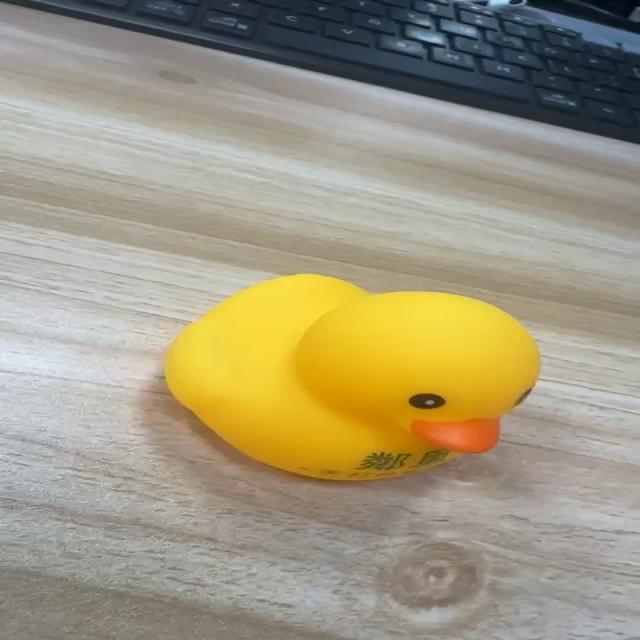yellow_duck: (161, 272, 542, 481)
